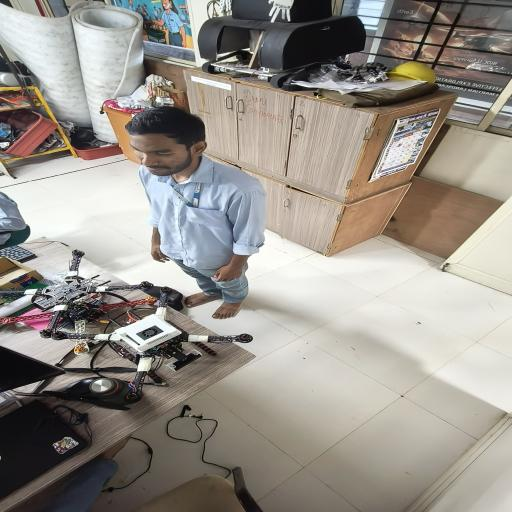survivor: (124, 106, 267, 320), (0, 191, 31, 246)
